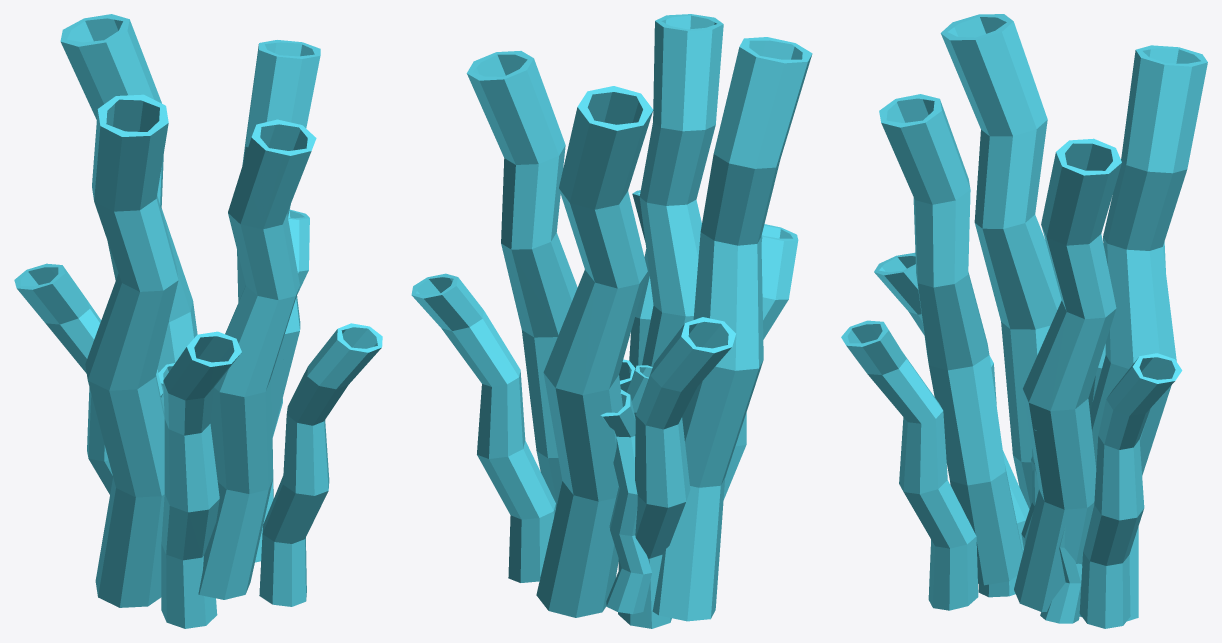
The model's file is Coral1.glb.
3 renders of one model, left to right at view 1: azimuth 30°, elevation 25°; view 2: azimuth 150°, elevation 25°; view 3: azimuth 270°, elevation 25°, orthographic. The views are drawn at different scales.
Visible parts, largest first — view 1: Cylinder.005_Material.008_0; view 2: Cylinder.005_Material.008_0; view 3: Cylinder.005_Material.008_0.
Part boxes in pixels (x1,y1,x2,y2): Cylinder.005_Material.008_0: (14, 14, 382, 628); Cylinder.005_Material.008_0: (411, 14, 812, 628); Cylinder.005_Material.008_0: (841, 14, 1207, 628).
Size of the model in its own units: 0.1442 by 0.2461 by 0.1525.
